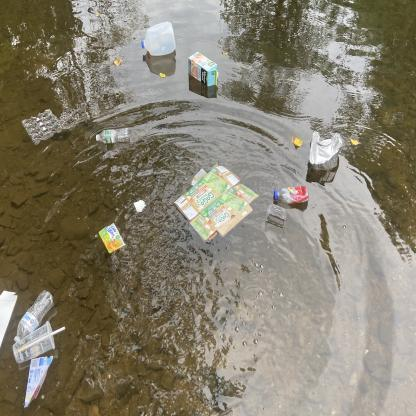trash: (171, 161, 261, 248), (11, 319, 69, 365), (14, 287, 54, 344), (23, 353, 54, 410), (20, 106, 64, 146), (141, 18, 177, 58), (307, 128, 344, 166), (186, 50, 220, 88), (0, 287, 20, 348), (96, 220, 126, 255), (272, 184, 312, 206), (92, 126, 132, 146), (264, 202, 288, 230), (132, 197, 148, 216)
